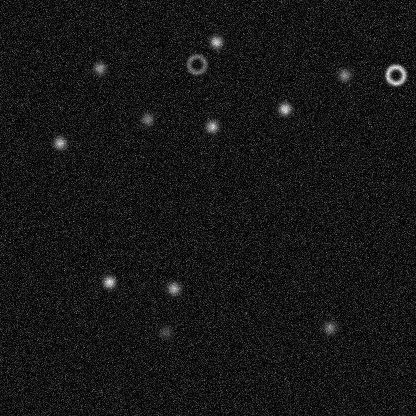Ring: (383, 62, 407, 86), (184, 52, 208, 76)
Spot: (100, 274, 116, 290), (165, 280, 181, 296), (276, 100, 292, 116), (157, 323, 173, 339), (204, 118, 220, 134), (208, 33, 224, 49), (51, 134, 67, 150), (139, 111, 155, 127), (91, 60, 107, 76), (321, 319, 337, 335), (336, 67, 352, 83)
